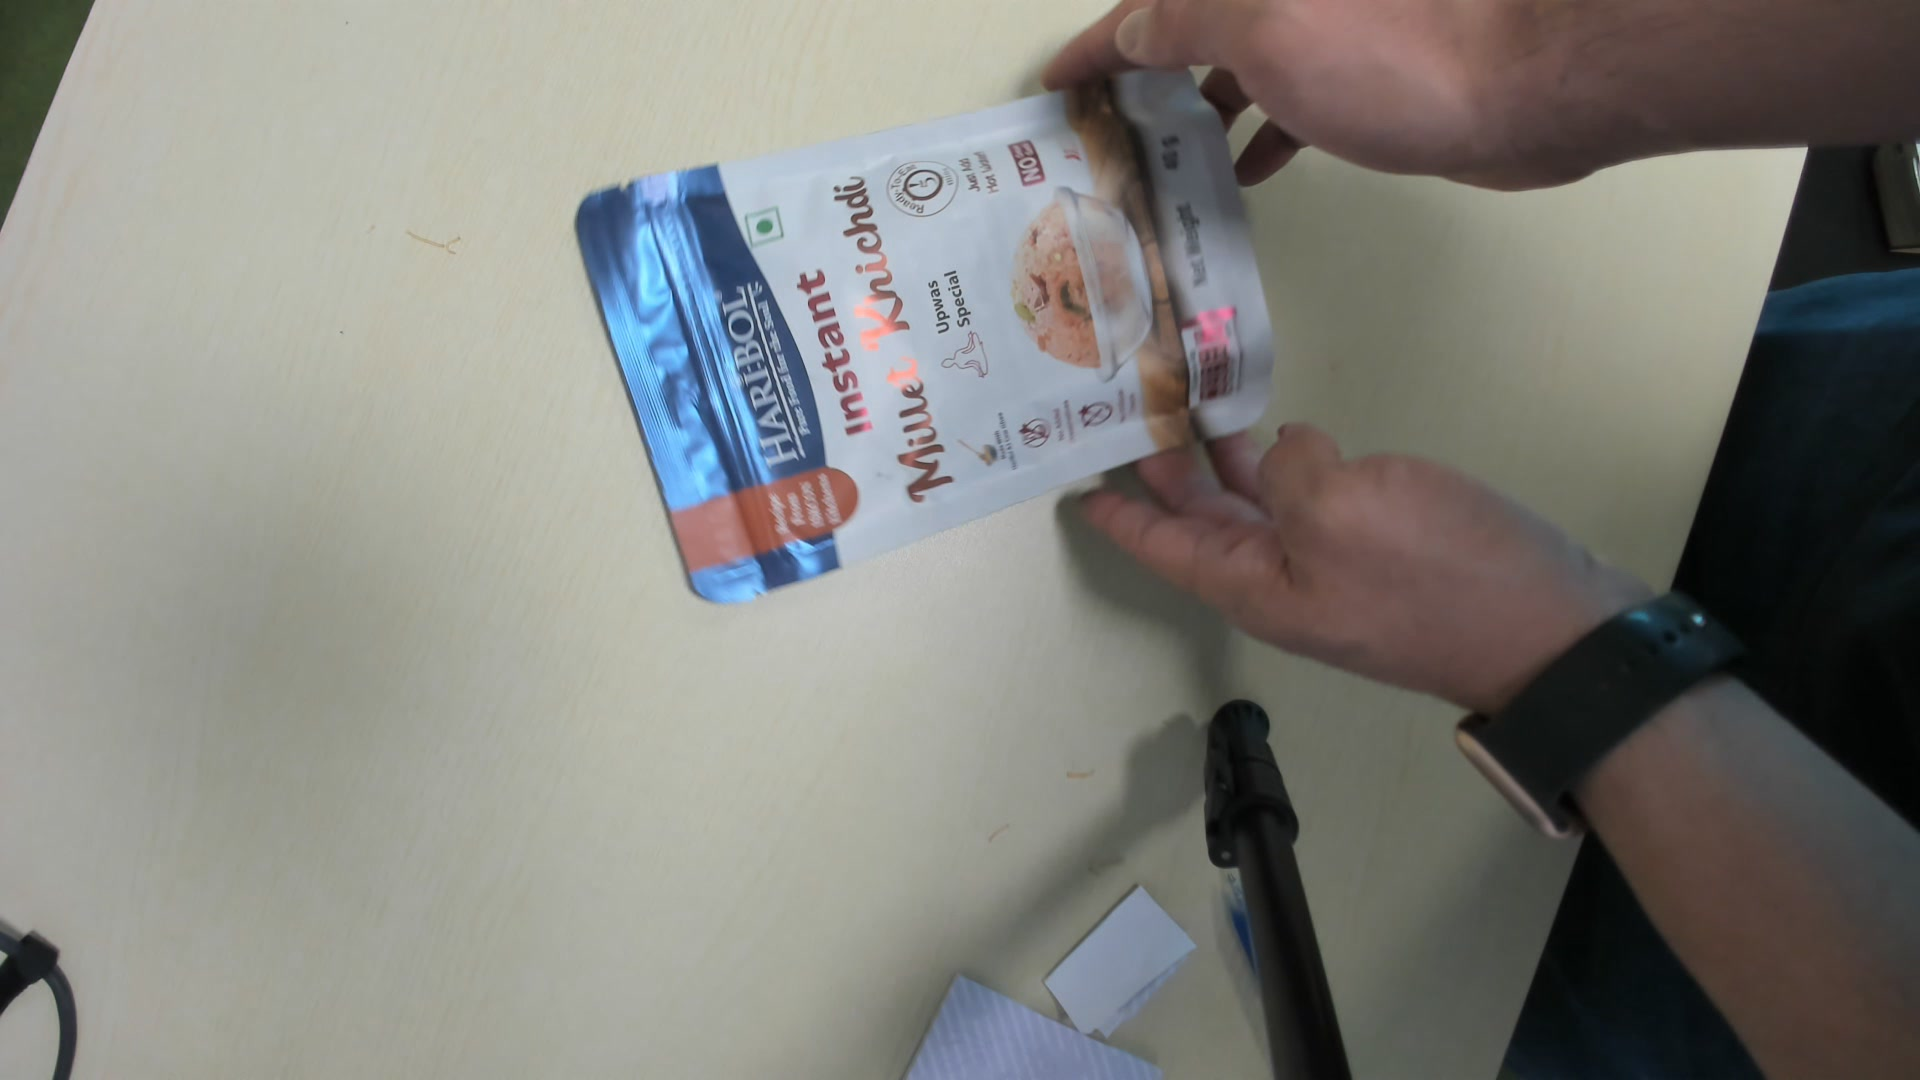InstantMeals_0-99g_NonHalal_NonHealthy: (574, 67, 1280, 609)
